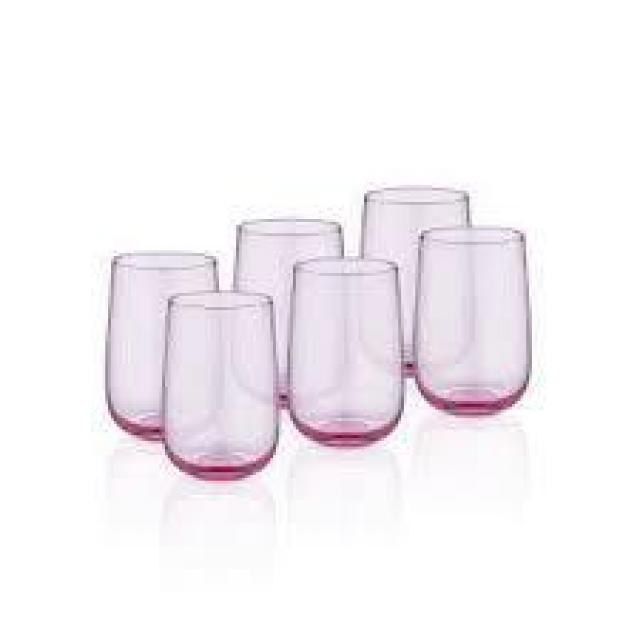non-organic waste: (159, 290, 282, 478)
